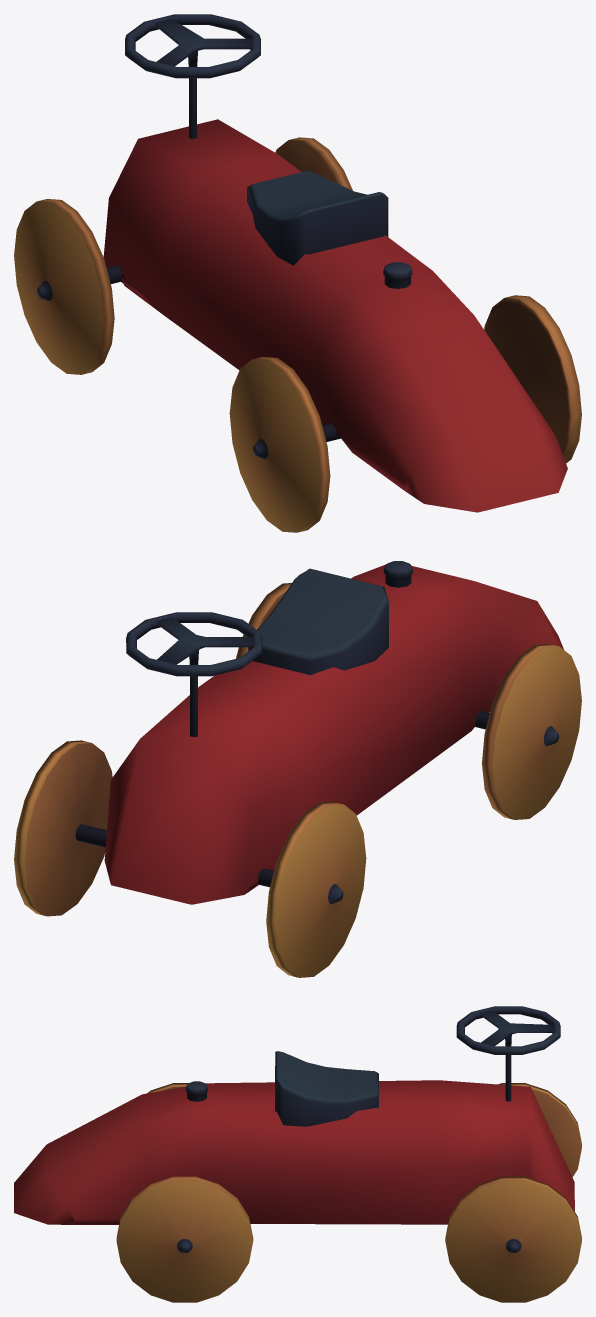
The model's file is human-toys-toy-race-car_v1.fbx.
The picture shows the model from 3 angles, top to bottom: view 1: azimuth 30°, elevation 25°; view 2: azimuth 150°, elevation 25°; view 3: azimuth 270°, elevation 25°; orthographic projection. The views are drawn at different scales.
Visible parts, largest first — view 1: Toy Race Car; view 2: Toy Race Car; view 3: Toy Race Car.
Part boxes in pixels (x1,y1,x2,y2): Toy Race Car: [14, 14, 581, 532]; Toy Race Car: [14, 561, 581, 977]; Toy Race Car: [14, 1006, 581, 1302].
Bounding box in the file's own units: 0.14 × 0.1323 × 0.3.
